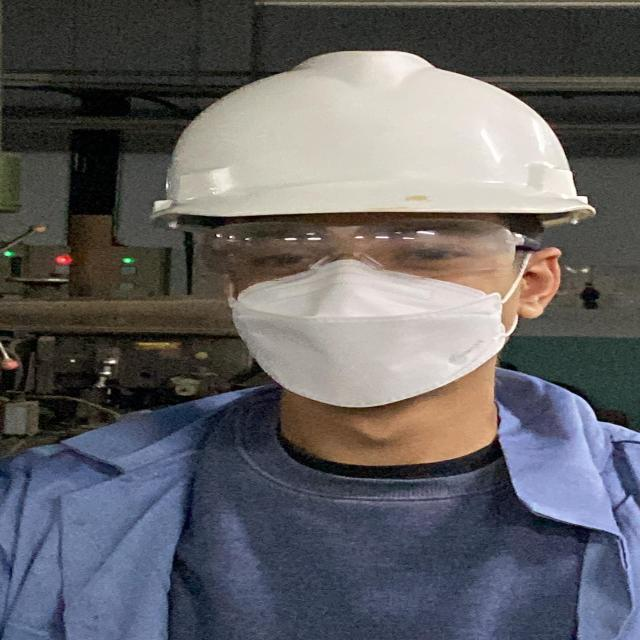glasses: (185, 216, 562, 281)
